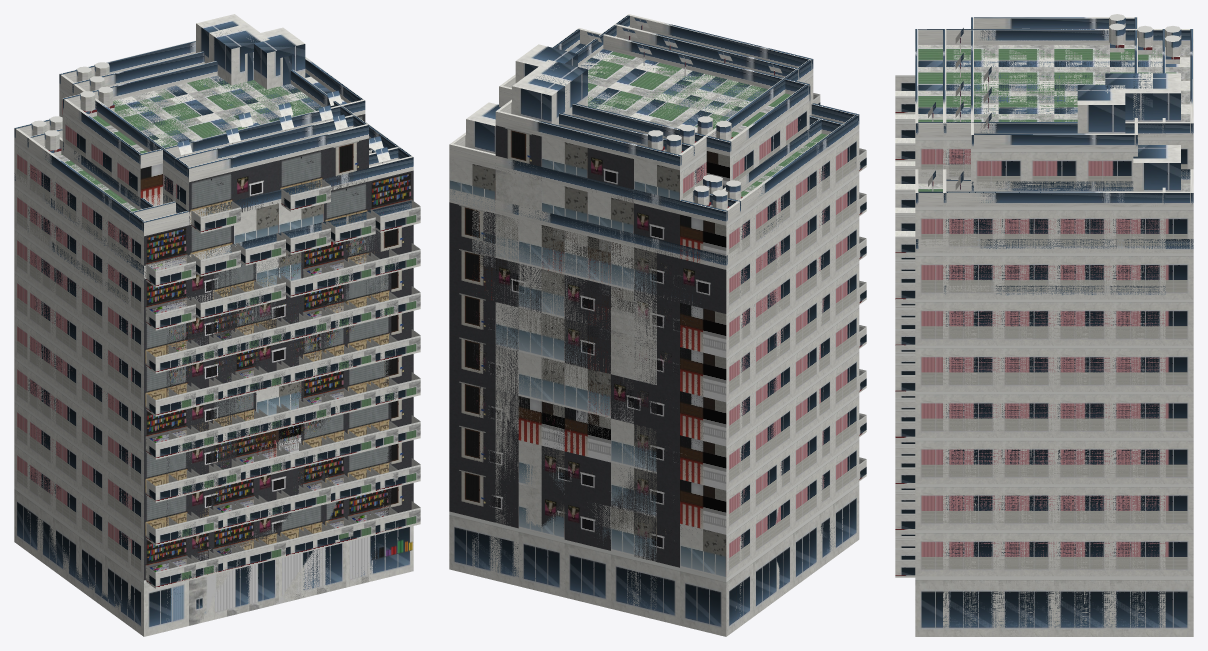
The picture shows the model from 3 angles, left to right: view 1: azimuth 30°, elevation 25°; view 2: azimuth 150°, elevation 25°; view 3: azimuth 270°, elevation 25°; orthographic projection. The views are drawn at different scales.
Visible parts, largest first — view 1: Modern_6x5_f7_v1, Modern_6x4_f8_v1, Modern_3x5_f7_v0, Modern_6x5_f8_v0, Modern_5x5_f6_v1, Modern_5x3_f9_v1, Modern_4x5_f9_v0, Modern_4x4_f9_v0, Modern_6x5_f8_v1, Modern_5x3_f8_v1, Modern_5x5_f7_v1, Modern_5x4_f8_v0 (+3 smaller); view 2: Modern_6x5_f7_v1, Modern_3x5_f7_v0, Modern_6x4_f8_v1, Modern_6x5_f8_v0, Modern_4x5_f9_v0, Modern_5x3_f9_v1, Modern_4x4_f9_v0, Modern_5x5_f6_v1, Modern_5x5_f7_v1, Modern_4x5_f7_v0, Modern_5x3_f8_v1; view 3: Modern_6x4_f8_v1, Modern_6x5_f7_v1, Modern_4x4_f9_v0, Modern_6x5_f8_v0, Modern_4x5_f9_v0, Modern_5x3_f9_v1, Modern_5x5_f6_v1, Modern_5x3_f8_v1, Modern_6x4_f6_v1, Modern_5x4_f8_v0, Modern_6x5_f8_v1, Modern_4x5_f8_v1.
Boxes of the visible parts, x1,y1,x2,y2 form: Modern_6x5_f7_v1: (14, 173, 413, 636); Modern_6x4_f8_v1: (27, 122, 399, 609); Modern_3x5_f7_v0: (211, 216, 353, 620); Modern_6x5_f8_v0: (14, 119, 420, 577); Modern_5x5_f6_v1: (166, 254, 398, 627); Modern_5x3_f9_v1: (62, 27, 372, 209); Modern_4x5_f9_v0: (59, 14, 368, 233); Modern_4x4_f9_v0: (72, 23, 355, 203); Modern_6x5_f8_v1: (49, 116, 390, 265); Modern_5x3_f8_v1: (62, 142, 162, 209); Modern_5x5_f7_v1: (166, 232, 398, 309); Modern_5x4_f8_v0: (55, 129, 378, 217); Modern_6x5_f7_v1: (449, 162, 866, 636); Modern_3x5_f7_v0: (518, 205, 656, 619); Modern_6x4_f8_v1: (464, 115, 845, 626); Modern_6x5_f8_v0: (449, 102, 866, 269); Modern_4x5_f9_v0: (495, 14, 820, 213); Modern_5x3_f9_v1: (499, 28, 809, 187); Modern_4x4_f9_v0: (509, 24, 799, 190); Modern_5x5_f6_v1: (472, 238, 703, 586); Modern_5x5_f7_v1: (472, 194, 702, 303); Modern_4x5_f7_v0: (495, 200, 679, 258); Modern_5x3_f8_v1: (723, 129, 809, 191); Modern_6x4_f8_v1: (943, 169, 1165, 636); Modern_6x5_f7_v1: (895, 239, 1193, 636); Modern_4x4_f9_v0: (943, 25, 1165, 179); Modern_6x5_f8_v0: (895, 114, 1193, 577); Modern_4x5_f9_v0: (895, 26, 1193, 183); Modern_5x3_f9_v1: (951, 14, 1137, 191); Modern_5x5_f6_v1: (895, 300, 915, 559); Modern_5x3_f8_v1: (971, 181, 1133, 191); Modern_6x4_f6_v1: (943, 285, 1165, 299); Modern_5x4_f8_v0: (943, 169, 1132, 191); Modern_6x5_f8_v1: (895, 161, 935, 191); Modern_4x5_f8_v1: (918, 169, 1190, 183).
Bounding box in the file's own units: 21 × 35.7 × 18.75.
Materials: 1 (1 with a texture image).
